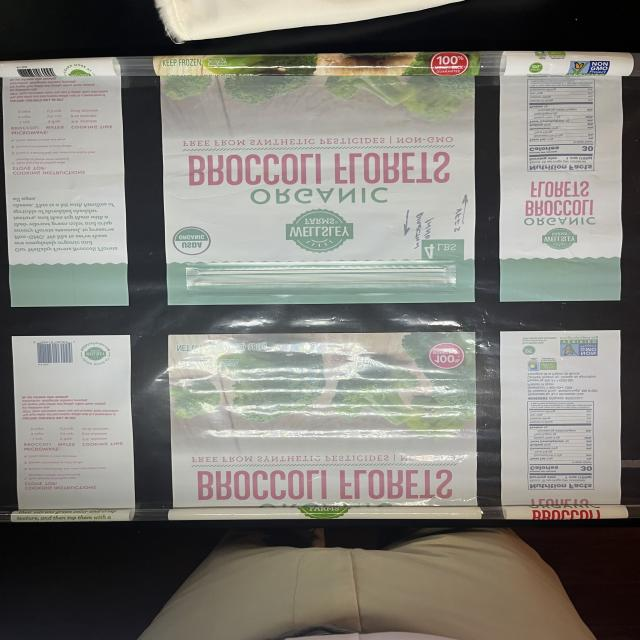zip_l: (186, 260, 457, 296)
